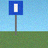sign: (9, 1, 23, 35)
